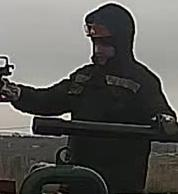gloves: (0, 79, 27, 102), (149, 109, 175, 123)
helmet: (83, 17, 116, 40)
vest: (71, 59, 154, 182)
